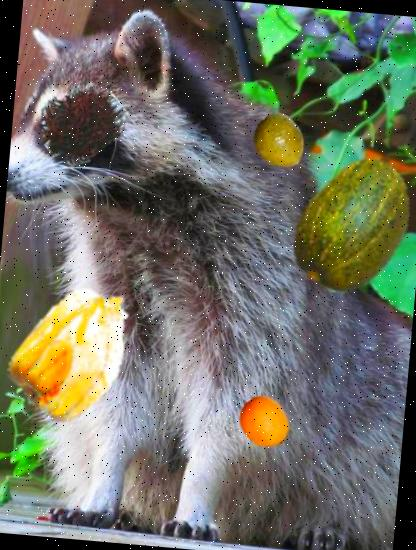Granadilla: (310, 171, 386, 247)
Guava: (250, 112, 312, 174)
Lemon: (235, 393, 296, 454)
Melon: (272, 146, 416, 300)
Physalis: (0, 271, 157, 430)
Rambutan: (34, 75, 128, 169)
